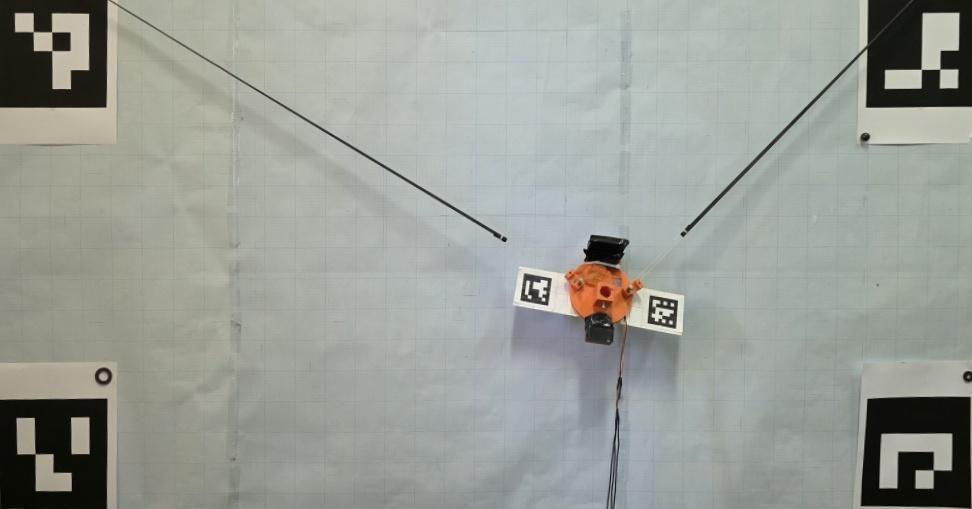robot: (561, 234, 643, 345)
